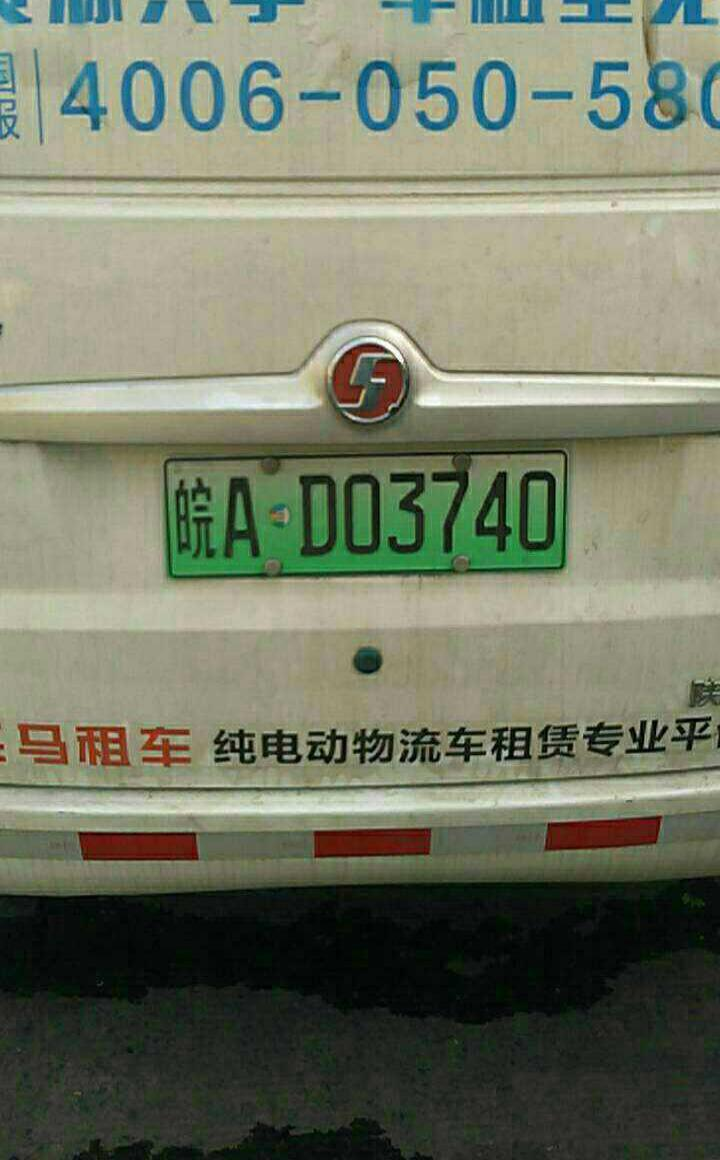car_id: (162, 448, 567, 575)
